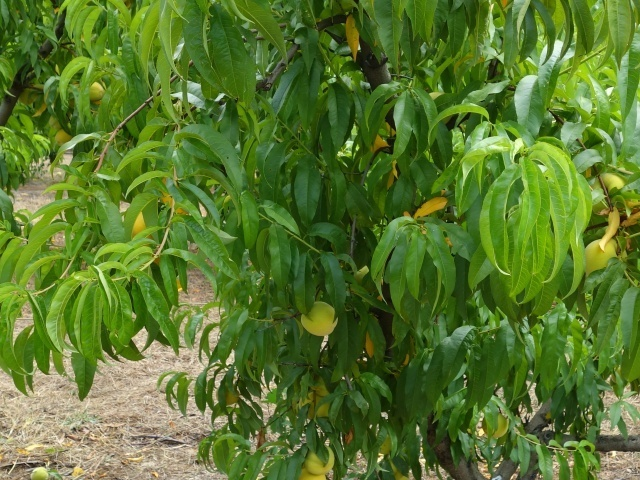peach: (579, 231, 633, 280), (297, 298, 342, 341), (588, 166, 632, 201), (297, 438, 338, 475), (481, 410, 510, 442), (84, 80, 110, 106), (292, 464, 335, 479), (49, 126, 75, 149)
